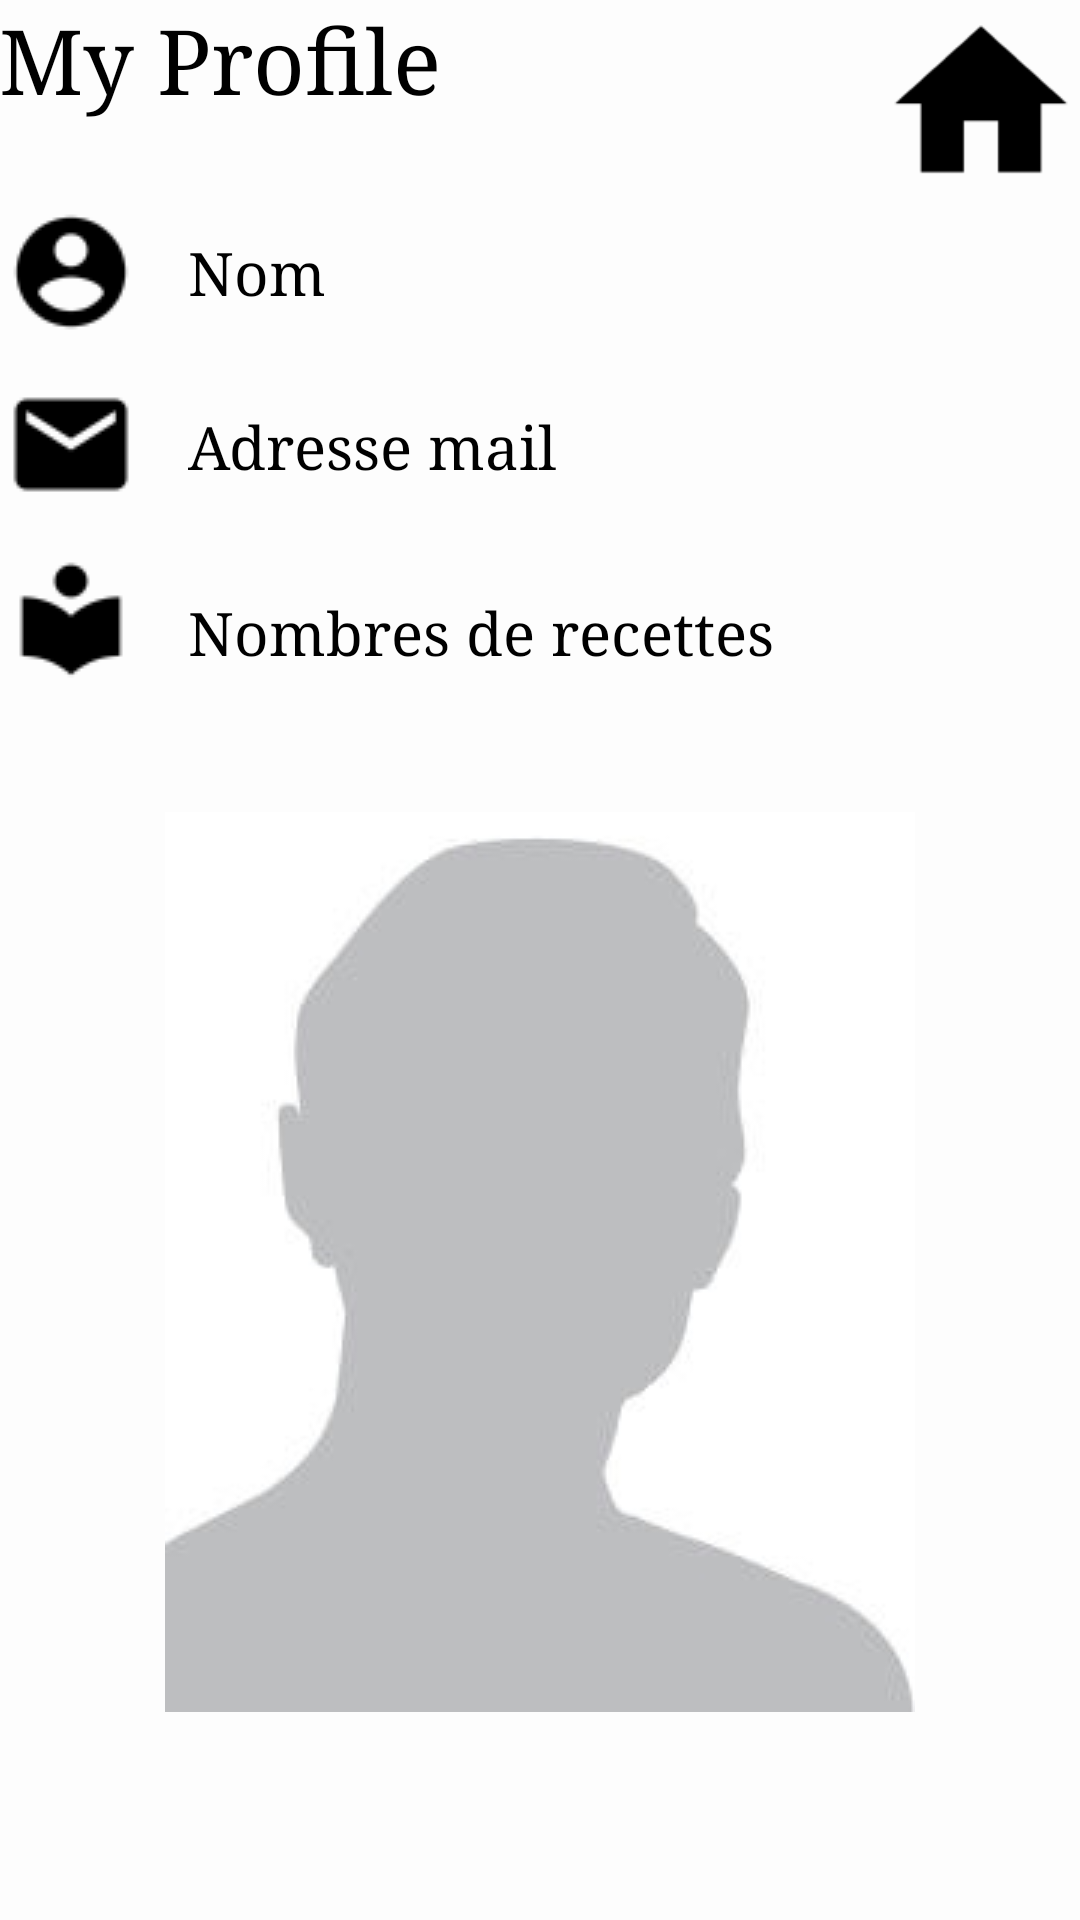

Where icons sit on this 1080×1920 app screen, as (x1,y1,x2,y2):
account circle: (14,215,128,329)
content markunread: (13,397,129,492)
home: (895,25,1067,173)
maps local library: (19,562,123,675)
